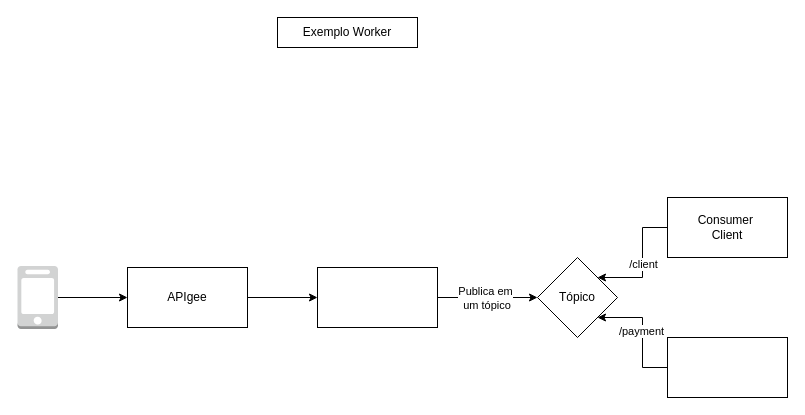
This 805x415 diagram has some shape labels left out. The centre of each missing label's shape, as x and y in pixels:
Consumer Payment: pixel 727 367
Publisher: pixel 377 297
